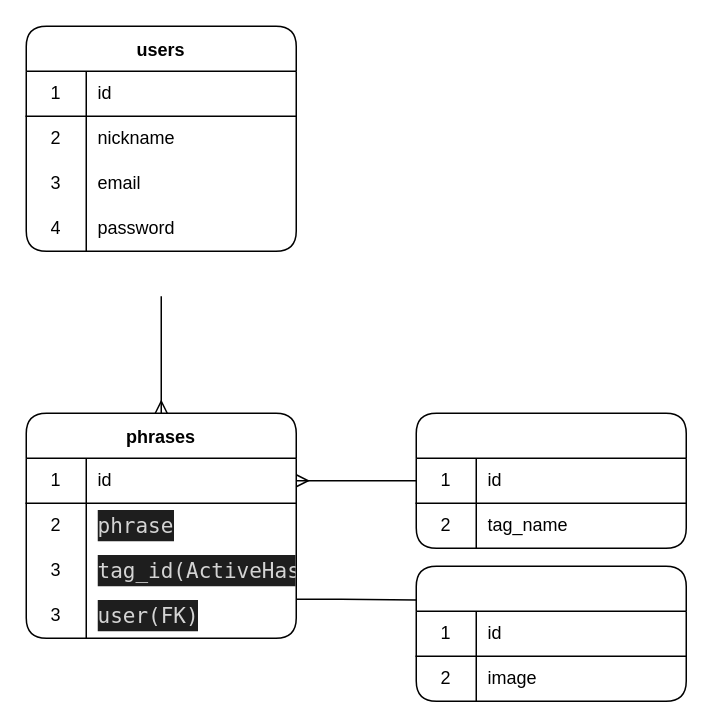
This 713x728 diagram has some shape labels left out. The shapes that lost their labels are listed below. From the top down, each one's box as (x1, y1, x2, y2) in pixels, then its label:
(415, 412, 686, 548): tags (ActiveHash)
(415, 565, 686, 701): active_storage
